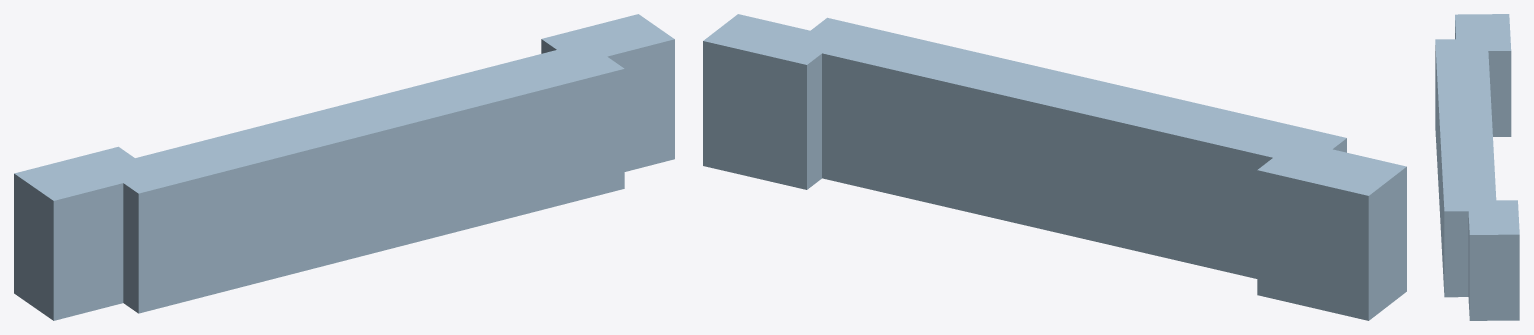
File: osm_way_223859797.glb
The picture shows the model from 3 angles, left to right: view 1: azimuth 30°, elevation 25°; view 2: azimuth 150°, elevation 25°; view 3: azimuth 270°, elevation 25°; orthographic projection. The views are drawn at different scales.
Parts seen in each view (by area): view 1: osm_way_223859797; view 2: osm_way_223859797; view 3: osm_way_223859797.
Part boxes in pixels (x1,y1,x2,y2): osm_way_223859797: (14, 14, 674, 320); osm_way_223859797: (703, 14, 1406, 320); osm_way_223859797: (1435, 14, 1519, 320).
Bounding box in the file's own units: 106 × 19.2 × 17.14.
